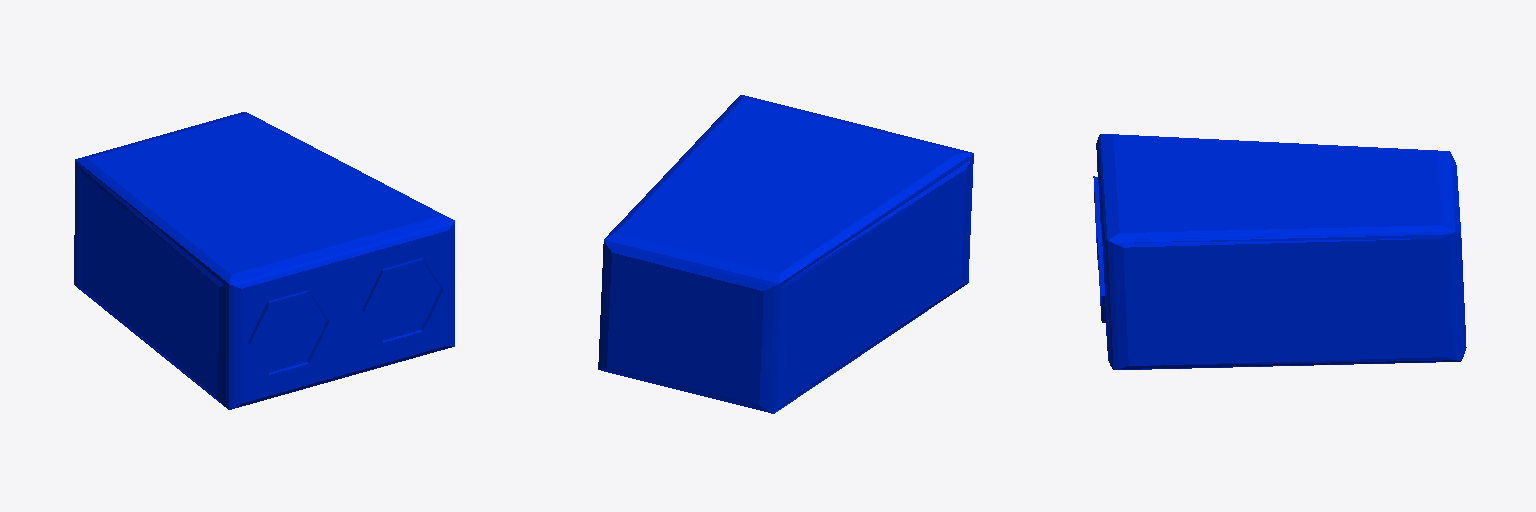
Rendered from Body.obj.
3 renders of one model, left to right at view 1: azimuth 30°, elevation 25°; view 2: azimuth 150°, elevation 25°; view 3: azimuth 270°, elevation 25°, orthographic.
Visible parts, largest first — view 1: default; view 2: default; view 3: default.
Part boxes in pixels (x1,y1,x2,y2): default: (74, 112, 454, 409); default: (598, 95, 973, 413); default: (1093, 134, 1466, 369).
Bounding box in the file's own units: 1.01 × 0.6033 × 1.38.